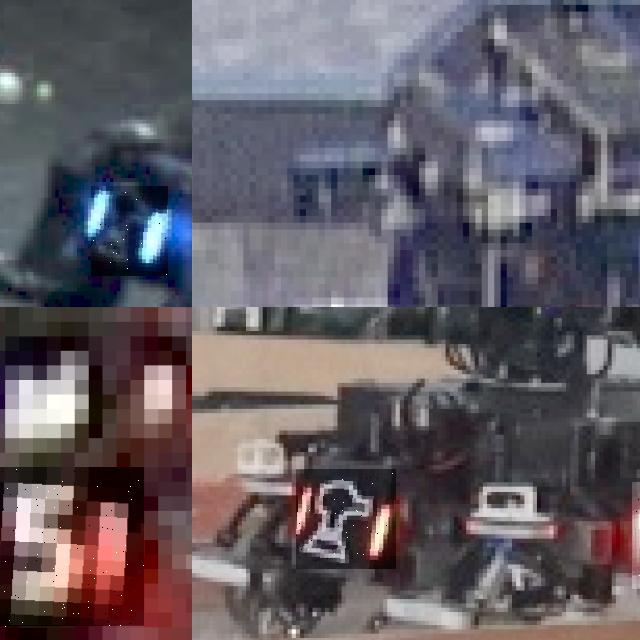Bs: (91, 186, 168, 276)
R5: (0, 467, 144, 627)
Rs: (296, 469, 396, 569)
